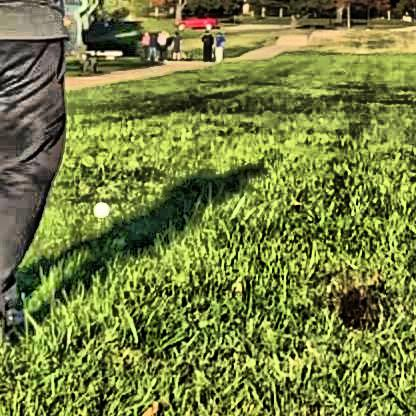golfball: (90, 199, 107, 216)
